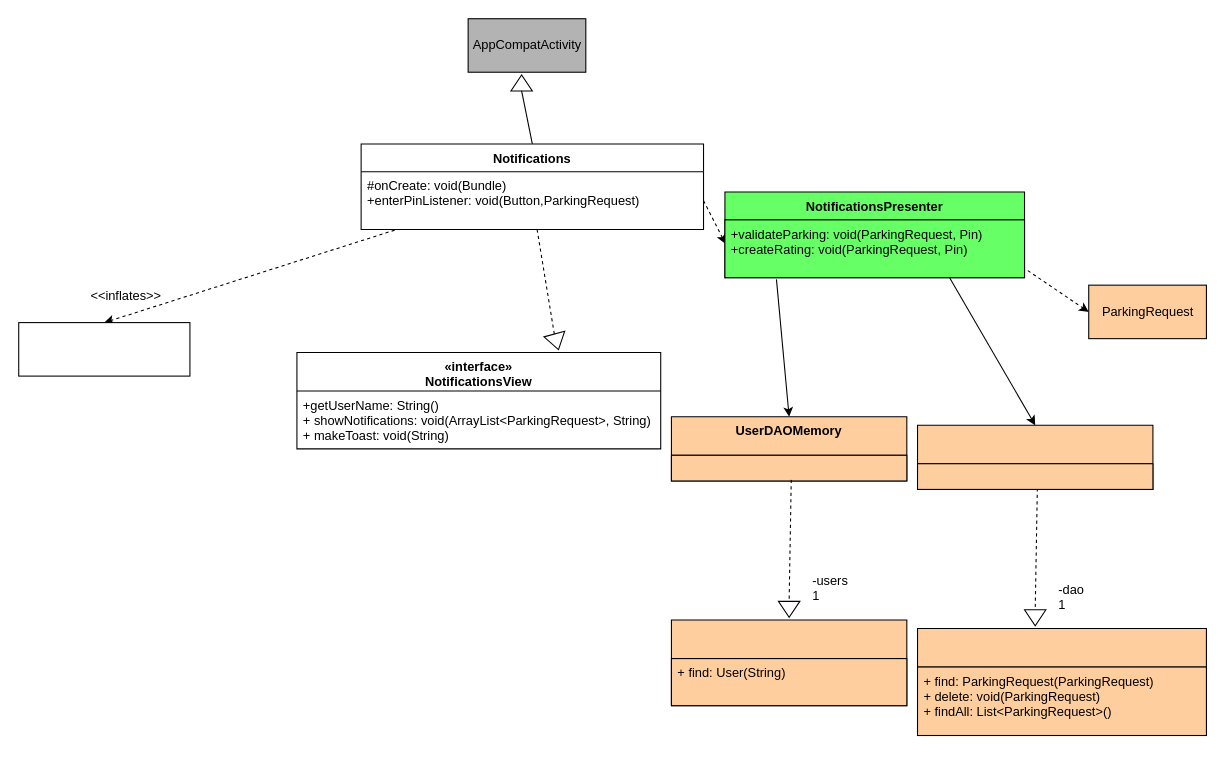
Image size: 1225x758. Some labels were removed from this diagram. The box of each missing label's shape, as (x1, y1, x2, y2) in pixels:
ParkingRequestDAOMemory: (916, 424, 1153, 489)
«interface» ParkingRequestDAO: (916, 627, 1206, 736)
«interface» UserDAO: (670, 619, 907, 706)
«layout» activity_notifications.xml: (18, 322, 190, 376)
